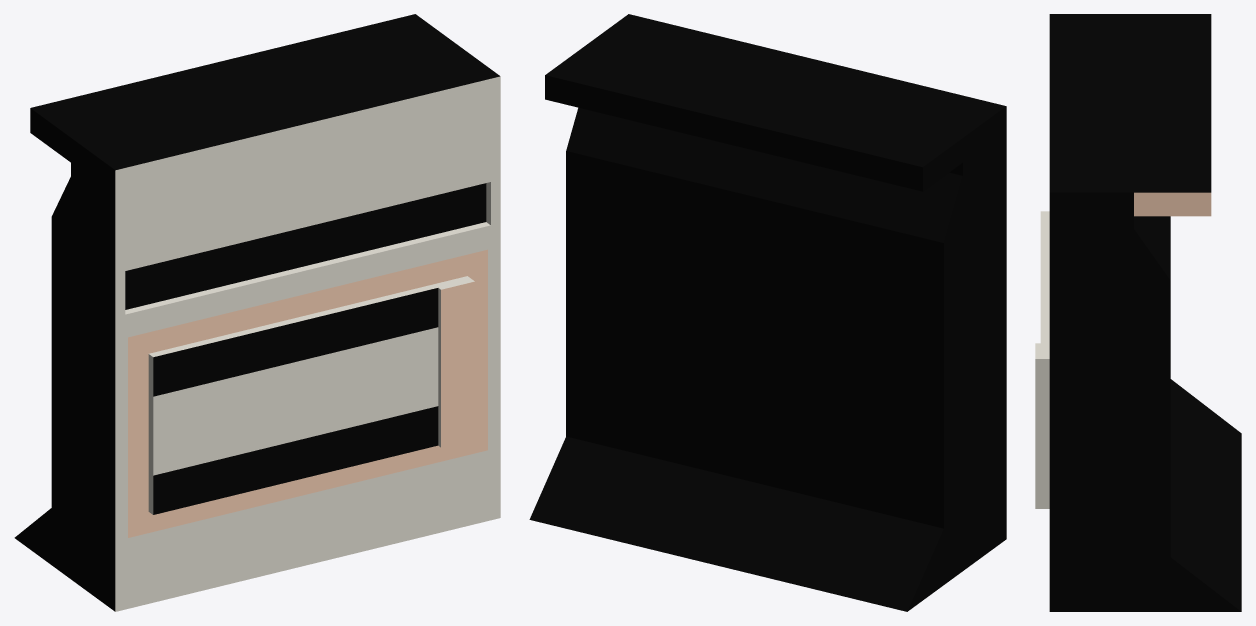
Rendered from Timer_Square.fbx.
3 views of the same model, side by side, from view 1: azimuth 30°, elevation 25°; view 2: azimuth 150°, elevation 25°; view 3: azimuth 270°, elevation 25° (orthographic). The views are drawn at different scales.
Visible parts, largest first — view 1: Timer_Sqaure; view 2: Timer_Sqaure; view 3: Timer_Sqaure.
Part boxes in pixels (box(x1,y1,x2,y2)): Timer_Sqaure: box(14, 14, 500, 611); Timer_Sqaure: box(529, 14, 1006, 611); Timer_Sqaure: box(1035, 14, 1241, 611).
Bounding box in the file's own units: 0.5 × 0.5478 × 0.2443.
